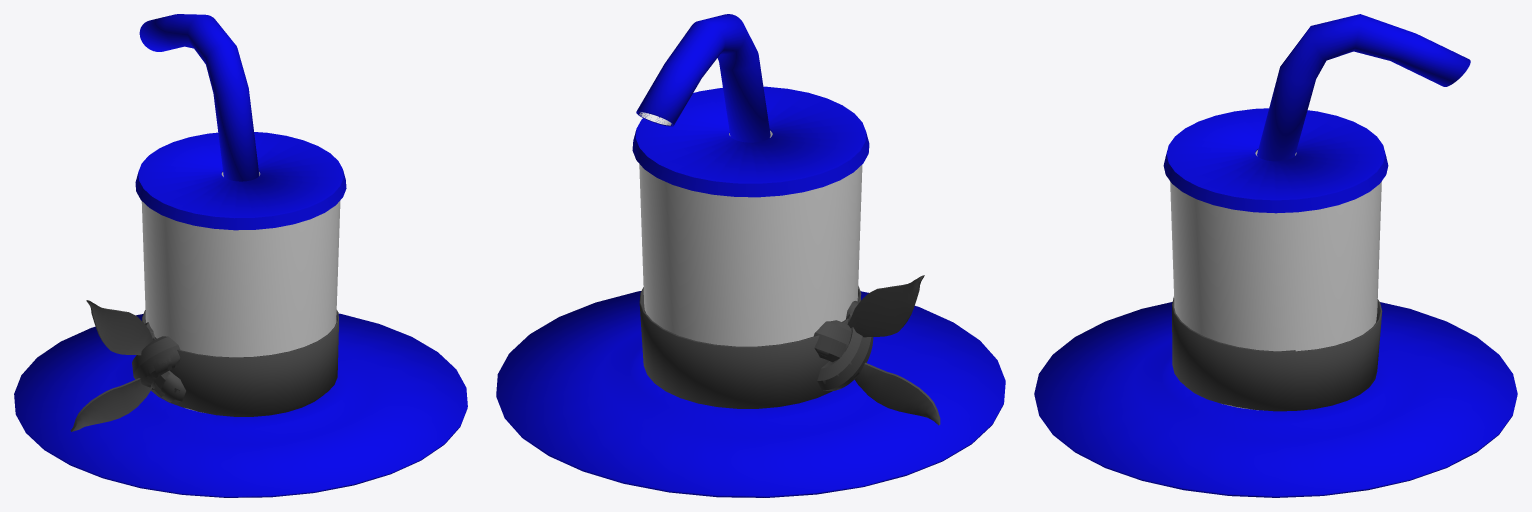
File: FAST HAT.fbx
3 views of the same model, side by side, from view 1: azimuth 30°, elevation 25°; view 2: azimuth 150°, elevation 25°; view 3: azimuth 270°, elevation 25° (orthographic). The views are drawn at different scales.
Parts seen in each view (by area): view 1: Circle.004, FAST HAT, Circle, Circle.002, Plane, Torus.002; view 2: Circle.004, Circle, FAST HAT, Circle.002, Plane, Torus.002, Torus.001; view 3: Circle.004, FAST HAT, Circle, Circle.002.
Boxes of the visible parts, box(x1,y1,x2,y2) form: Circle.004: box(14, 313, 467, 497); FAST HAT: box(15, 14, 467, 497); Circle: box(135, 132, 346, 408); Circle.002: box(151, 312, 338, 414); Plane: box(70, 300, 153, 431); Torus.002: box(132, 336, 180, 389); Circle.004: box(496, 291, 1005, 497); Circle: box(632, 86, 868, 346); FAST HAT: box(496, 14, 1003, 497); Circle.002: box(639, 292, 861, 408); Plane: box(848, 275, 940, 425); Torus.002: box(817, 301, 873, 391); Torus.001: box(814, 320, 851, 362); Circle.004: box(1034, 302, 1517, 497); FAST HAT: box(1035, 14, 1512, 497); Circle: box(1166, 108, 1388, 351); Circle.002: box(1172, 305, 1382, 411).
Size of the model in its own units: 187 by 162 by 187.
